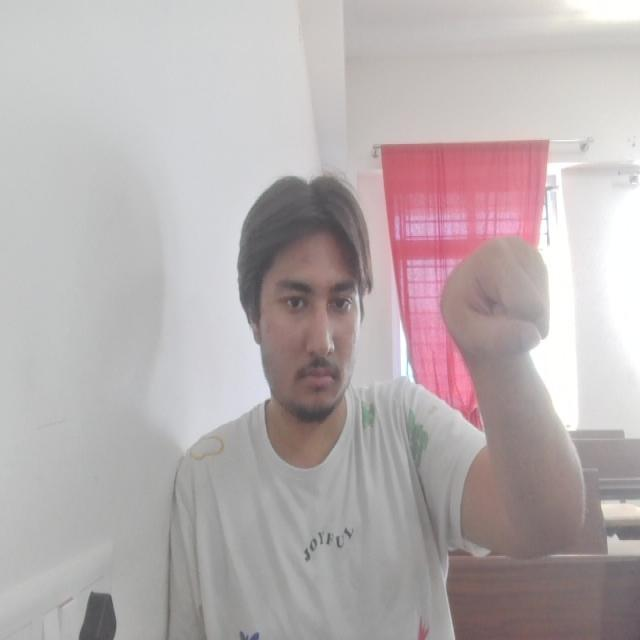yes: (437, 234, 554, 364)
